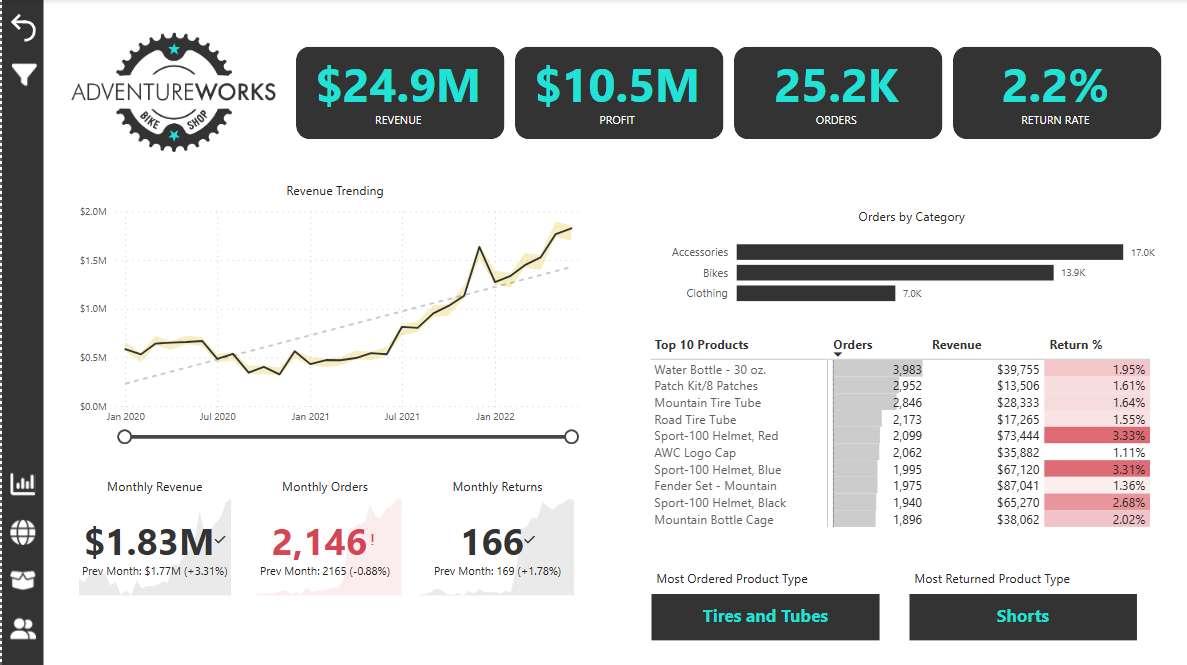

What the dashboard file says about the page in this screenshot:
{"tool":"powerbi","page":{"name":"Exec Dashboard","canvas":[1280,720],"ordinal":0},"visuals":[{"type":"image","title":"AW Logo","box":[45,26.7,280,146.7],"z":0},{"type":"card","fields":{"Values":["Measure Table.Total Profit"]},"box":[543.7,31.7,240,128.3],"z":0,"group":"g2"},{"type":"group","id":"g1","title":"KPI Backgrounds","box":[316.7,50,933.3,100],"z":0,"group":"g3"},{"type":"shape","box":[316.7,50,225,100],"z":0,"group":"g1"},{"type":"actionButton","box":[5.2,608.1,45.3,35.6],"z":0,"group":"g4"},{"type":"shape","title":"Left Nav Background","box":[0,0,45,720],"z":1000},{"type":"group","id":"g2","title":"KPI Values","box":[307.2,31.7,949.5,128.3],"z":1000,"group":"g3"},{"type":"card","fields":{"Values":["Measure Table.Total Revenue"]},"box":[307.2,31.7,240,128.3],"z":1000,"group":"g2"},{"type":"shape","box":[552.8,50,225,100],"z":1000,"group":"g1"},{"type":"actionButton","box":[5,505,45,35],"z":1000,"group":"g4"},{"type":"group","id":"g3","title":"KPIs","box":[307.2,31.7,949.5,128.3],"z":2000},{"type":"card","fields":{"Values":["Measure Table.Total Orders"]},"box":[780.2,31.7,240,128.3],"z":2000,"group":"g2"},{"type":"shape","box":[788.9,50,225,100],"z":2000,"group":"g1"},{"type":"actionButton","box":[5.2,556.3,45.3,35.6],"z":2000,"group":"g4"},{"type":"card","fields":{"Values":["Measure Table.Return Rate"]},"box":[1016.7,31.7,240,128.3],"z":3000,"group":"g2"},{"type":"shape","box":[1025,50,225,100],"z":3000,"group":"g1"},{"type":"lineChart","title":"Revenue Trending","fields":{"Y":["Measure Table.Total Revenue"],"Category":["Calendar Lookup.Start of Month"]},"box":[77.7,195.8,563.1,286.4],"z":3000},{"type":"actionButton","box":[5,660,45,36.2],"z":3000,"group":"g4"},{"type":"kpi","title":"Monthly Revenue","fields":{"TrendLine":["Calendar Lookup.Start of Month"],"Goal":["Measure Table.Previous Month Revenue"],"Indicator":["Measure Table.Total Revenue"]},"box":[78,514.2,174.2,132.7],"z":4000},{"type":"kpi","title":"Monthly Orders","fields":{"TrendLine":["Calendar Lookup.Start of Month"],"Indicator":["Measure Table.Total Orders"],"Goal":["Measure Table.Previous Month Order"]},"box":[261.3,514.2,175.8,132.7],"z":5000},{"type":"kpi","title":"Monthly Returns","fields":{"TrendLine":["Calendar Lookup.Start of Month"],"Indicator":["Measure Table.Total Returns"],"Goal":["Measure Table.Previous Month Returns"]},"box":[446.2,514.2,175.8,132.7],"z":6000},{"type":"clusteredBarChart","title":"Orders by Category","fields":{"Category":["Product Categories Lookup.CategoryName"],"Y":["Measure Table.Total Orders"]},"box":[711.9,223.3,538.8,116.5],"z":7000},{"type":"pivotTable","fields":{"Rows":["Product Lookup.ProductName"],"Values":["Measure Table.Total Orders","Measure Table.Total Revenue","Measure Table.Return Rate"]},"box":[694.1,356,556.6,224.9],"z":8000},{"type":"card","fields":{"Values":["Min(Product Subcategories Lookup.SubcategoryName)"]},"box":[700.6,640.7,245.9,50.2],"z":9000},{"type":"textbox","box":[700.9,607.6,216.4,33.8],"z":10000},{"type":"card","fields":{"Values":["Min(Product Subcategories Lookup.SubcategoryName)"]},"box":[978.9,640.7,245,50.2],"z":11000},{"type":"textbox","box":[978.9,608.4,212,32.4],"z":12000},{"type":"actionButton","box":[3.8,10,41.2,40],"z":13000},{"type":"group","id":"g4","title":"Navigation Buttons","box":[5,505,45.5,191.2],"z":14000},{"type":"actionButton","box":[6.7,63.3,41.7,35],"z":15000}]}

Visuals, with their boxes on the page's 1280x720 design canvas (x1, y1, x2, y2). These are canvas units, not pixel positions in the 1187x665 screenshot, which may show the page scaled, cropped or inside an application window:
"AW Logo" image: bbox=[45, 27, 325, 173]
card - Measure Table.Total Profit: bbox=[544, 32, 784, 160]
"KPI Backgrounds" group: bbox=[317, 50, 1250, 150]
shape: bbox=[317, 50, 542, 150]
actionButton: bbox=[5, 608, 50, 644]
"Left Nav Background" shape: bbox=[0, 0, 45, 720]
"KPI Values" group: bbox=[307, 32, 1257, 160]
card - Measure Table.Total Revenue: bbox=[307, 32, 547, 160]
shape: bbox=[553, 50, 778, 150]
actionButton: bbox=[5, 505, 50, 540]
"KPIs" group: bbox=[307, 32, 1257, 160]
card - Measure Table.Total Orders: bbox=[780, 32, 1020, 160]
shape: bbox=[789, 50, 1014, 150]
actionButton: bbox=[5, 556, 50, 592]
card - Measure Table.Return Rate: bbox=[1017, 32, 1257, 160]
shape: bbox=[1025, 50, 1250, 150]
"Revenue Trending" lineChart: bbox=[78, 196, 641, 482]
actionButton: bbox=[5, 660, 50, 696]
"Monthly Revenue" kpi: bbox=[78, 514, 252, 647]
"Monthly Orders" kpi: bbox=[261, 514, 437, 647]
"Monthly Returns" kpi: bbox=[446, 514, 622, 647]
"Orders by Category" clusteredBarChart: bbox=[712, 223, 1251, 340]
pivotTable - Product Lookup.ProductName x Measure Table.Total Orders: bbox=[694, 356, 1251, 581]
card - Min(Product Subcategories Lookup.SubcategoryName): bbox=[701, 641, 946, 691]
textbox: bbox=[701, 608, 917, 641]
card - Min(Product Subcategories Lookup.SubcategoryName): bbox=[979, 641, 1224, 691]
textbox: bbox=[979, 608, 1191, 641]
actionButton: bbox=[4, 10, 45, 50]
"Navigation Buttons" group: bbox=[5, 505, 50, 696]
actionButton: bbox=[7, 63, 48, 98]
